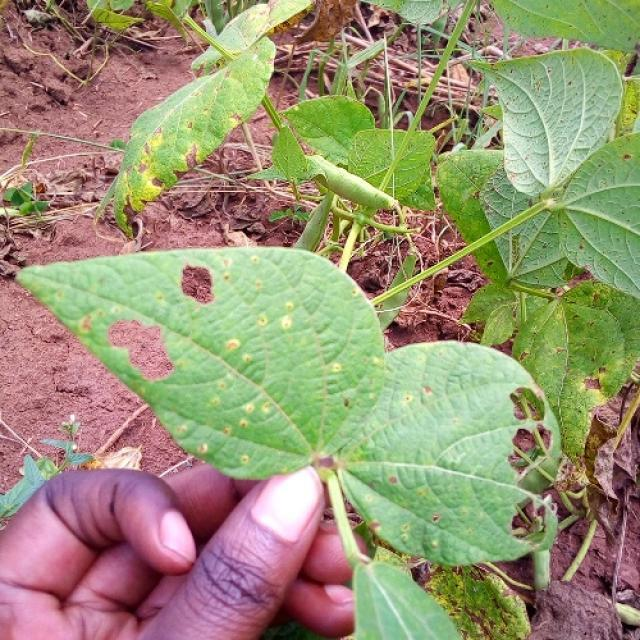mozaik: (479, 368, 595, 585), (89, 260, 228, 398)
